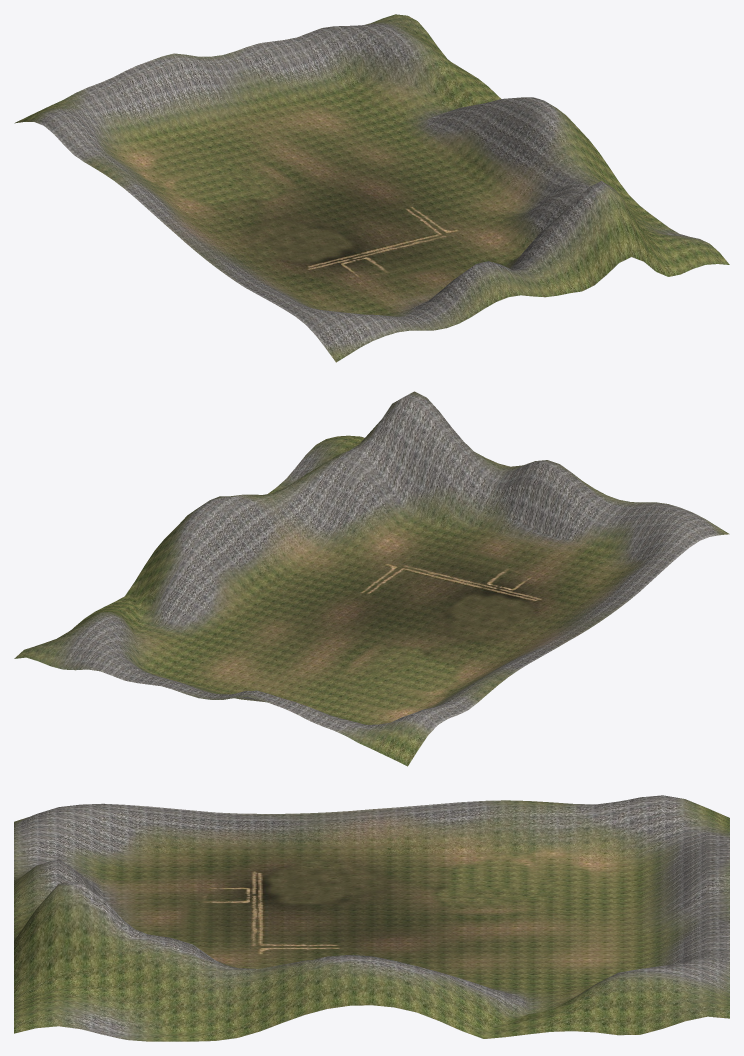
3 views of the same model, one above another, from view 1: azimuth 30°, elevation 25°; view 2: azimuth 150°, elevation 25°; view 3: azimuth 270°, elevation 25° (orthographic). The views are drawn at different scales.
Parts seen in each view (by area): view 1: Mesh; view 2: Mesh; view 3: Mesh.
Boxes of the visible parts, <box> form: Mesh: <box>14,14,729,362</box>; Mesh: <box>14,391,729,766</box>; Mesh: <box>14,795,729,1041</box>.
Bounding box in the file's own units: 600 × 136 × 850.
1 material, 1 textured.
